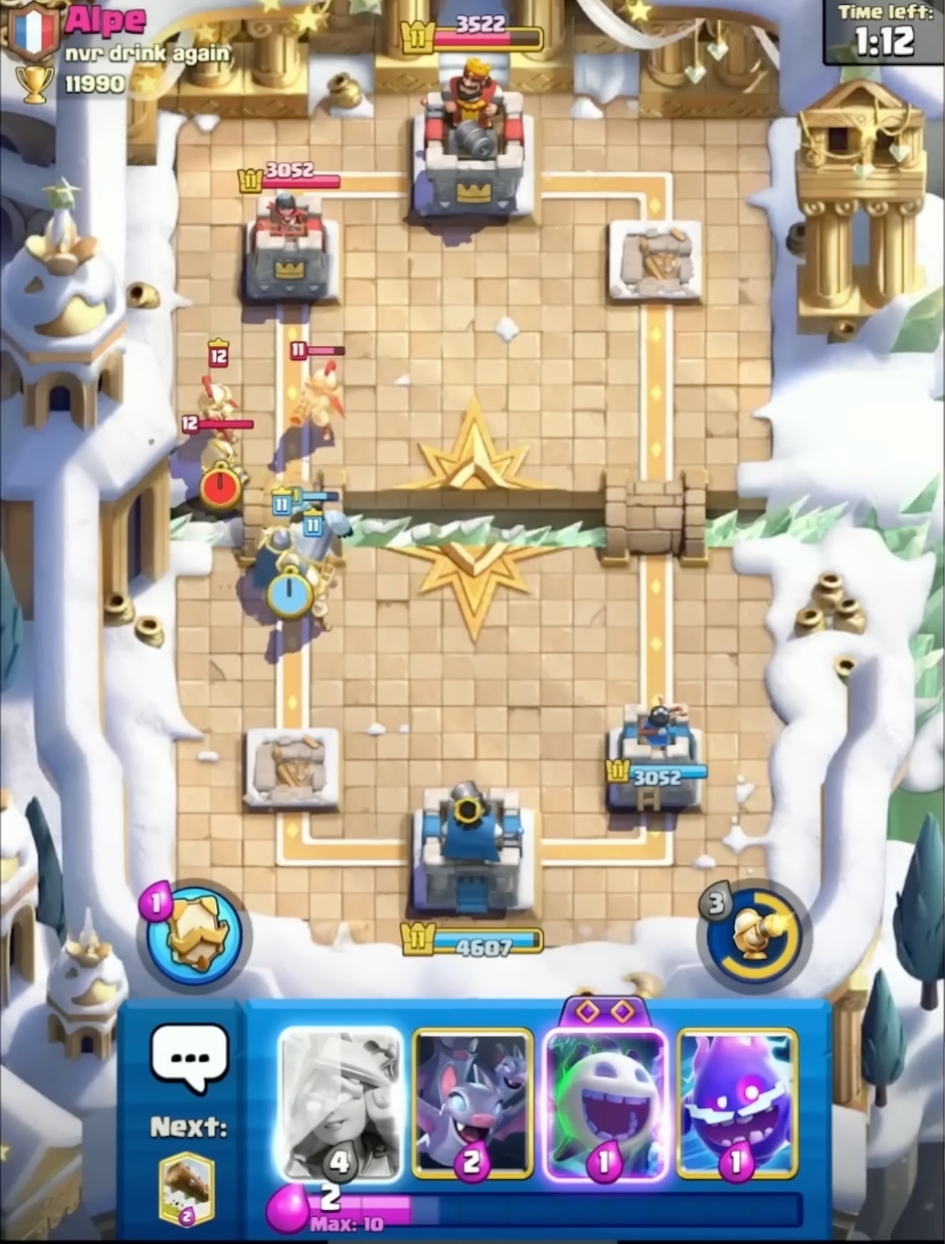hero-musketeer: (189, 322, 251, 447), (287, 337, 350, 452)
